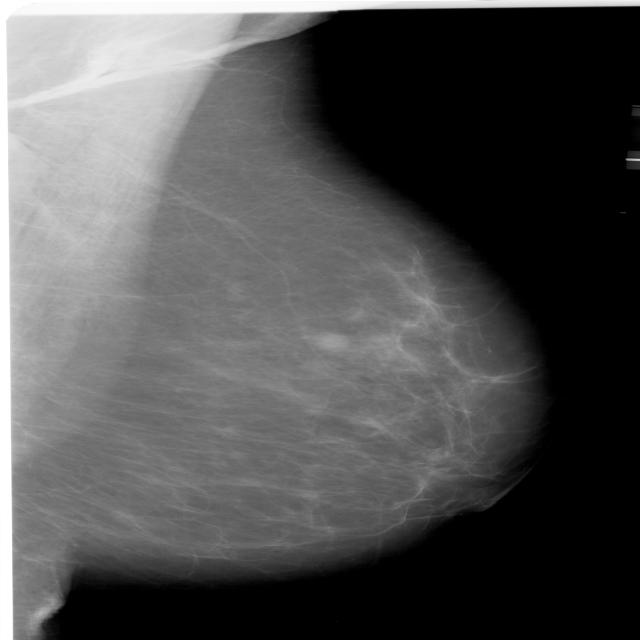normal: (0, 0, 535, 590)
